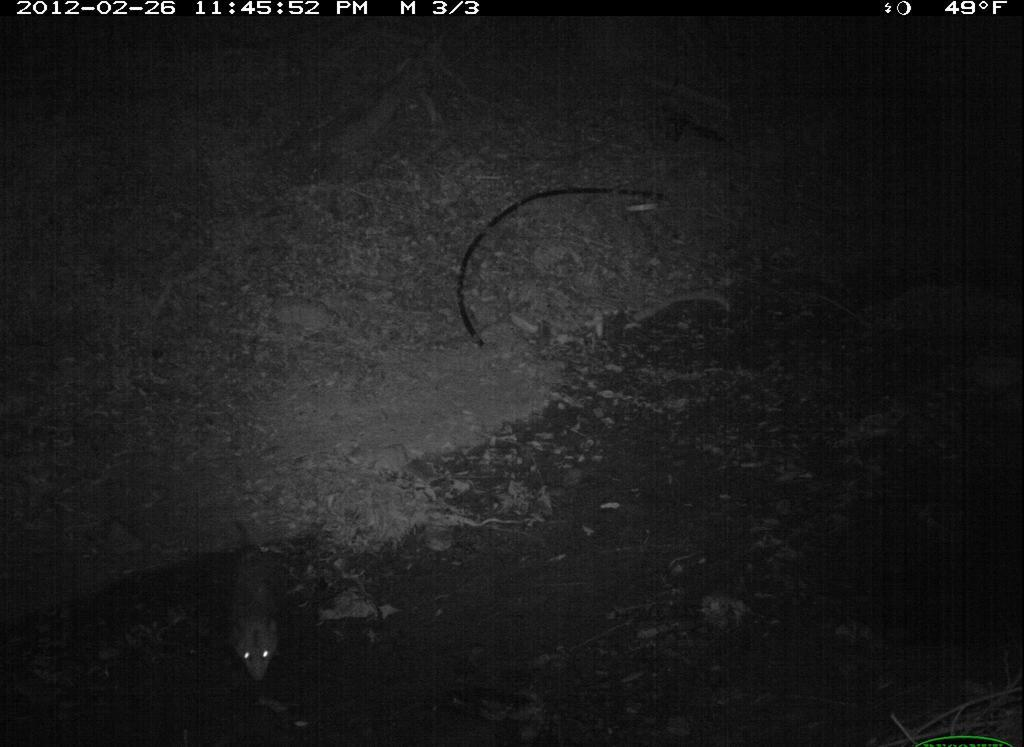opossum: (216, 516, 303, 692)
